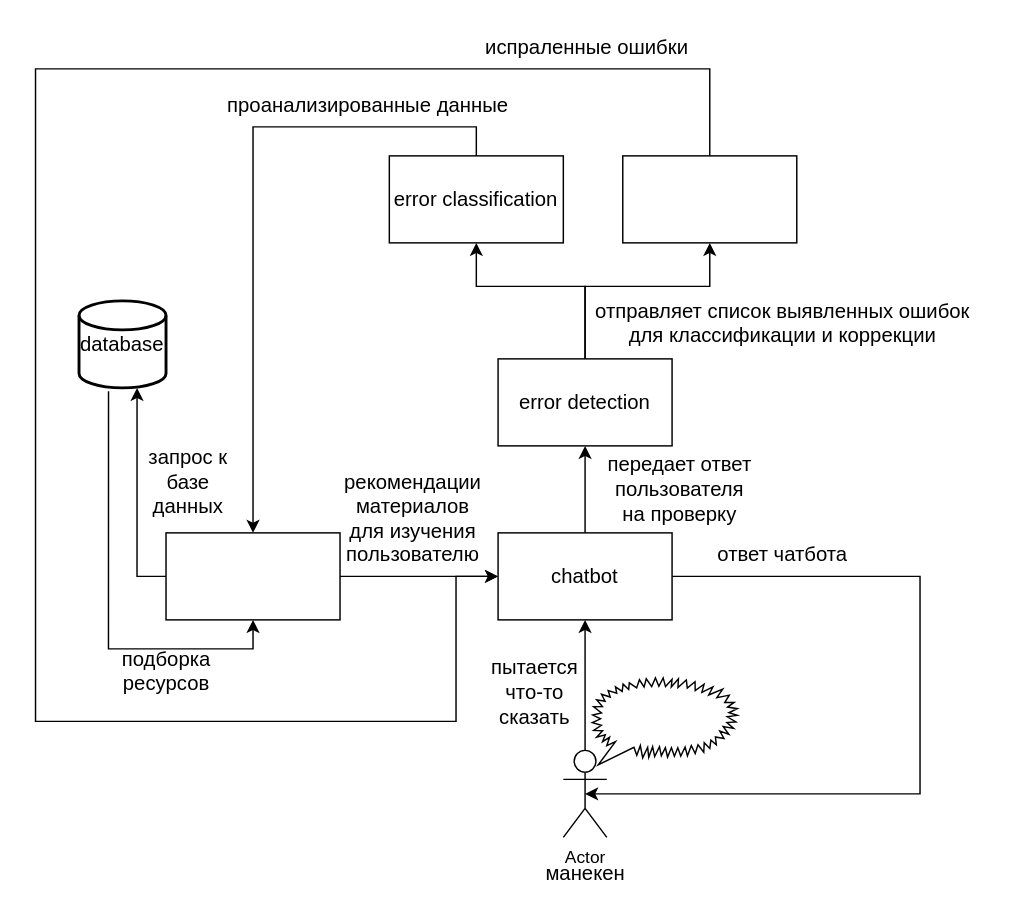
Some shapes in this 1011 by 919 pixel diagram are drawn without their labels. The shapes that lost their labels are listed below. From the top down, each one's centre as x and y in pixels, then its label:
At point (709, 198): "error correction".
At point (252, 575): "recommendation system".
At point (664, 720): "я могу говорить".
